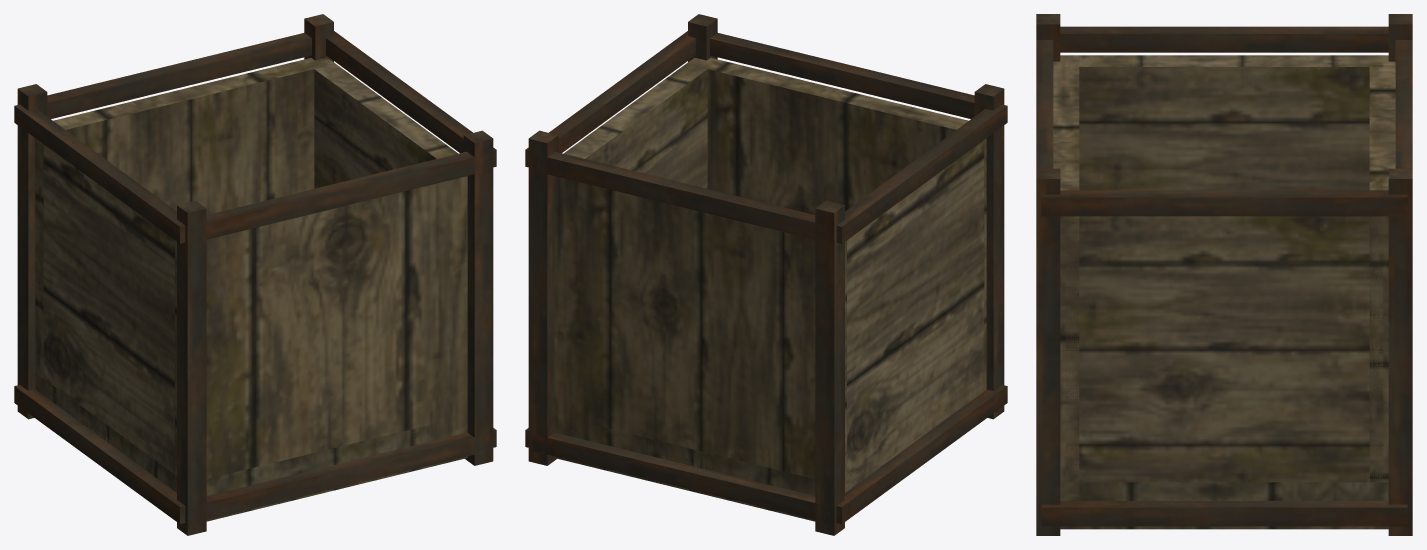
The model's file is Crate_Open.glb.
3 renders of one model, left to right at view 1: azimuth 30°, elevation 25°; view 2: azimuth 150°, elevation 25°; view 3: azimuth 270°, elevation 25°, orthographic. The views are drawn at different scales.
Parts seen in each view (by area): view 1: Crate_Open; view 2: Crate_Open; view 3: Crate_Open.
Boxes of the visible parts, x1,y1,x2,y2 form: Crate_Open: (14,14,496,535); Crate_Open: (525,14,1007,535); Crate_Open: (1036,14,1412,535).
Size of the model in its own units: 1.17 by 1.14 by 1.09.
1 material, 1 textured.
